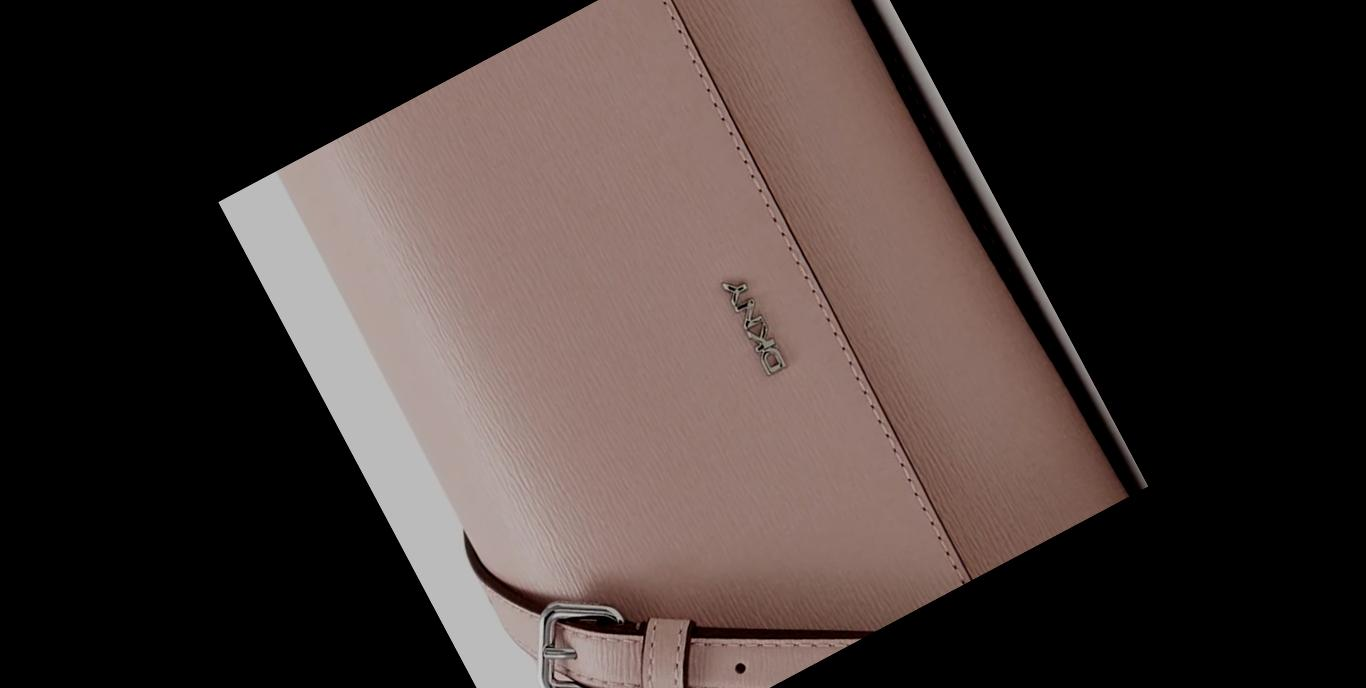DKNY: (718, 272, 789, 376)
